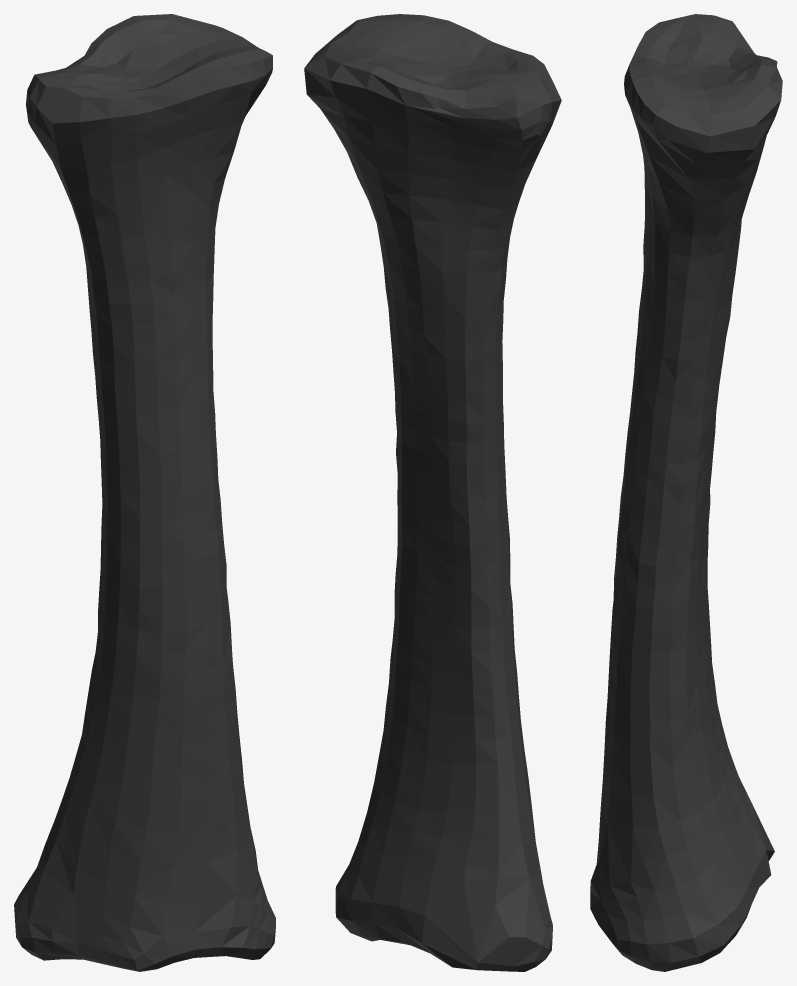
File: RFL_radius.glb
The picture shows the model from 3 angles, left to right: view 1: azimuth 30°, elevation 25°; view 2: azimuth 150°, elevation 25°; view 3: azimuth 270°, elevation 25°; orthographic projection. The views are drawn at different scales.
Parts seen in each view (by area): view 1: RFL_radius; view 2: RFL_radius; view 3: RFL_radius.
Part boxes in pixels (x1=…): RFL_radius: x1=14, y1=14, x2=275, y2=971; RFL_radius: x1=304, y1=14, x2=561, y2=971; RFL_radius: x1=590, y1=14, x2=782, y2=971.
Bounding box in the file's own units: 16.78 × 61.84 × 12.31.
Materials: 1 (1 with a texture image).
